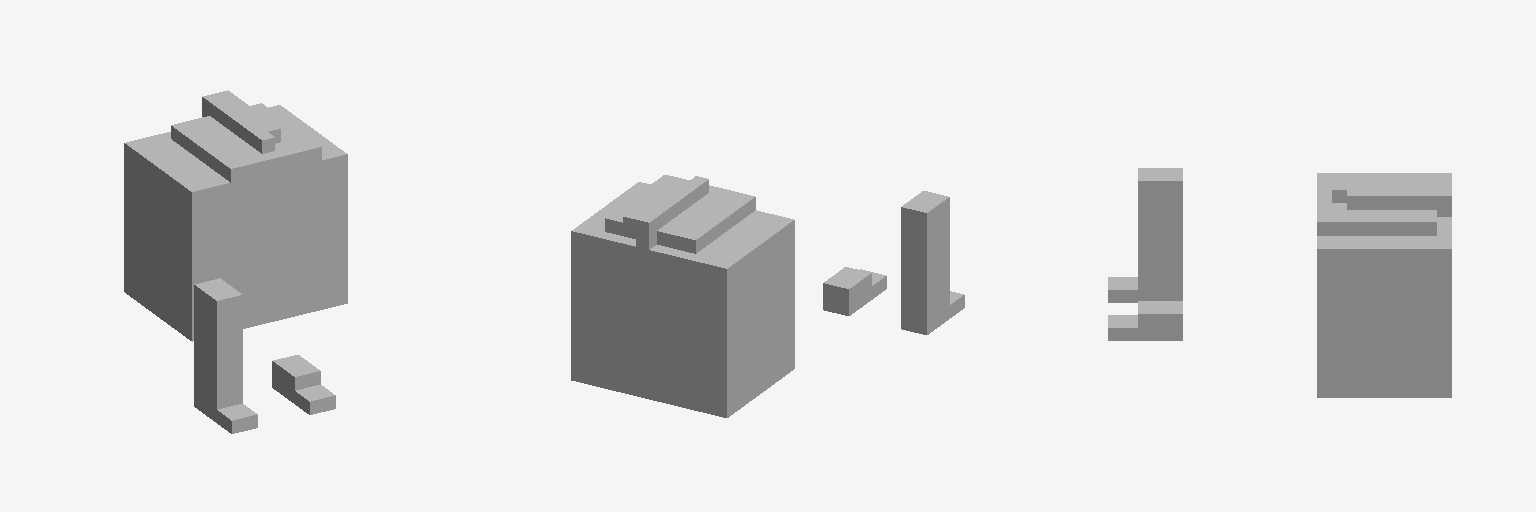
Rendered from voxel.obj.
3 views of the same model, side by side, from view 1: azimuth 30°, elevation 25°; view 2: azimuth 150°, elevation 25°; view 3: azimuth 270°, elevation 25° (orthographic).
Visible parts, largest first — view 1: object 1; view 2: object 1; view 3: object 1.
Boxes of the visible parts, x1=… form: object 1: x1=124, y1=90, x2=347, y2=433; object 1: x1=571, y1=175, x2=964, y2=417; object 1: x1=1108, y1=168, x2=1451, y2=397.
Bounding box in the file's own units: 1.7 × 1.3 × 2.3.